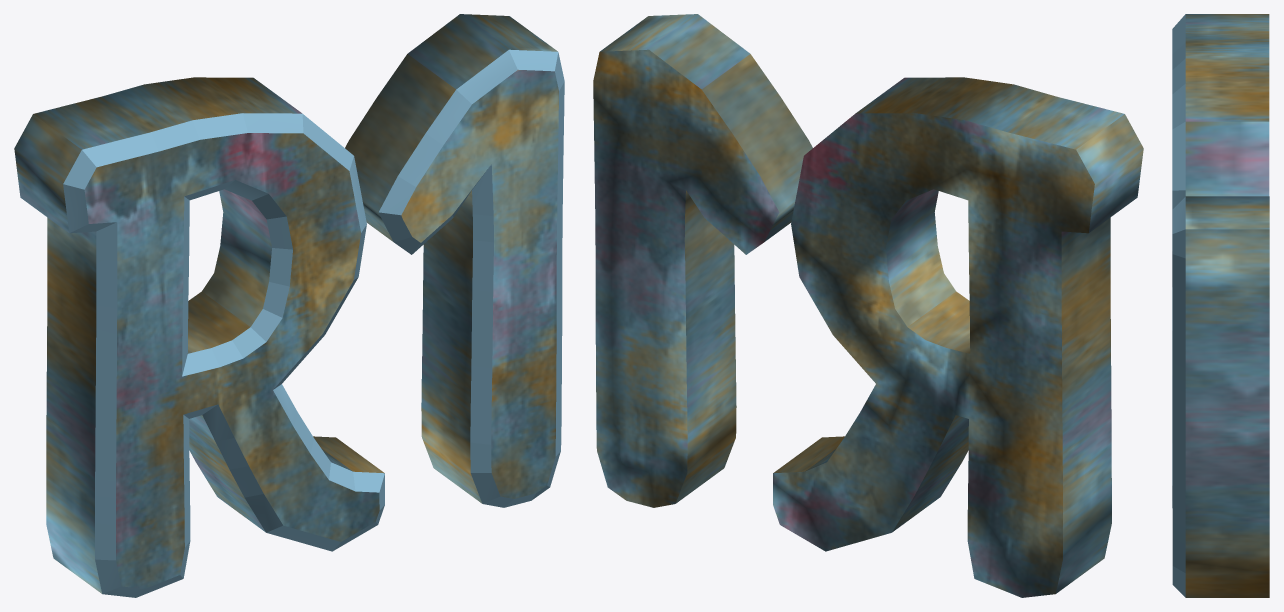
The model's file is ButtonR01.glb.
The picture shows the model from 3 angles, left to right: view 1: azimuth 30°, elevation 25°; view 2: azimuth 150°, elevation 25°; view 3: azimuth 270°, elevation 25°; orthographic projection. The views are drawn at different scales.
Visible parts, largest first — view 1: ButtonR01; view 2: ButtonR01; view 3: ButtonR01.
Boxes of the visible parts, box(x1,y1,x2,y2) form: ButtonR01: box(14, 14, 564, 597); ButtonR01: box(593, 14, 1143, 597); ButtonR01: box(1172, 14, 1269, 597).
Bounding box in the file's own units: 0.1916 × 0.1699 × 0.0374.
1 material, 1 textured.
